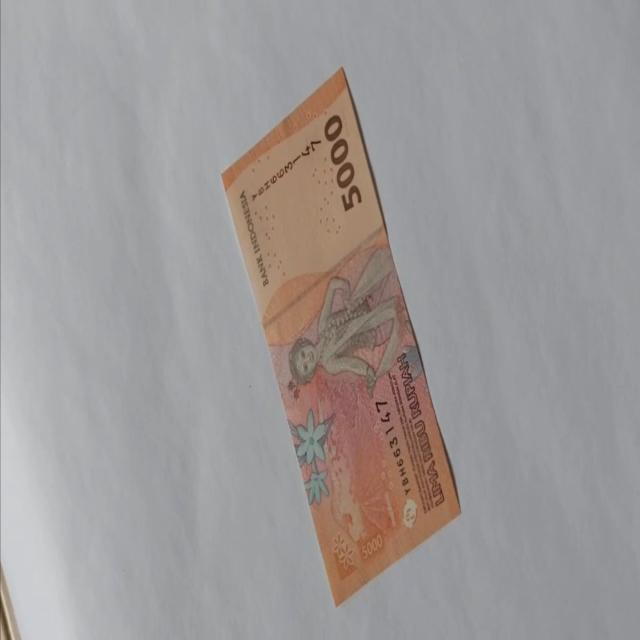lima ribu rupiah: (220, 65, 462, 607)
